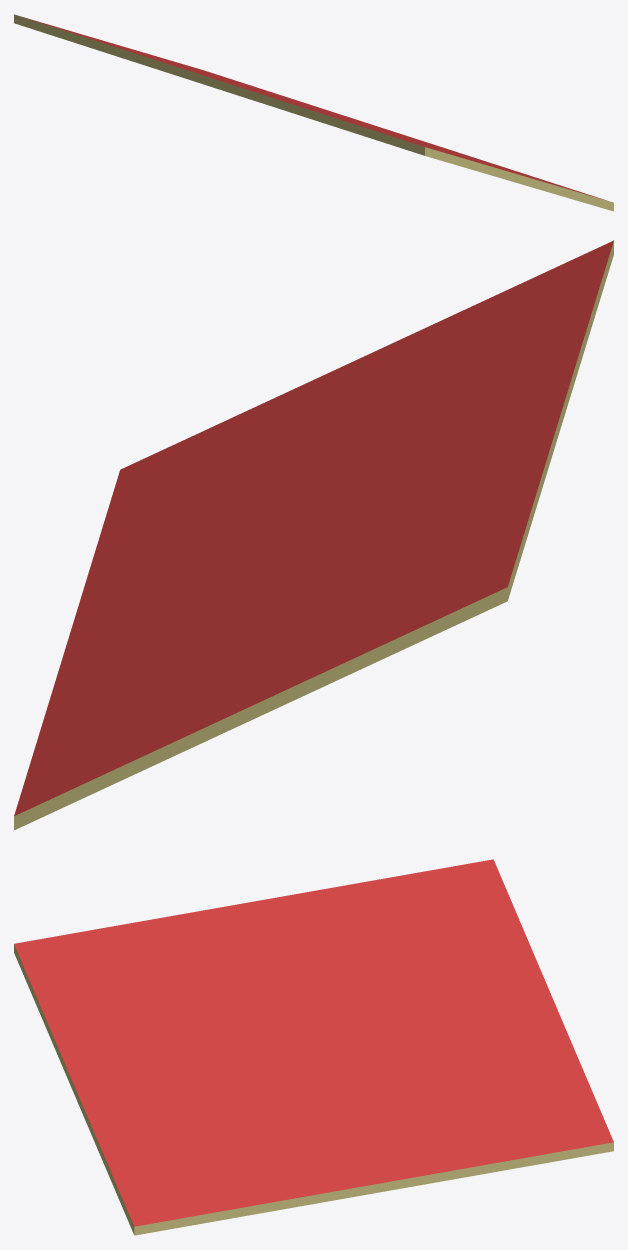
The picture shows the model from 3 angles, top to bottom: view 1: azimuth 30°, elevation 25°; view 2: azimuth 150°, elevation 25°; view 3: azimuth 270°, elevation 25°; orthographic projection. The views are drawn at different scales.
Size of the model in its own units: 4.96 by 6.09 by 1.9.
